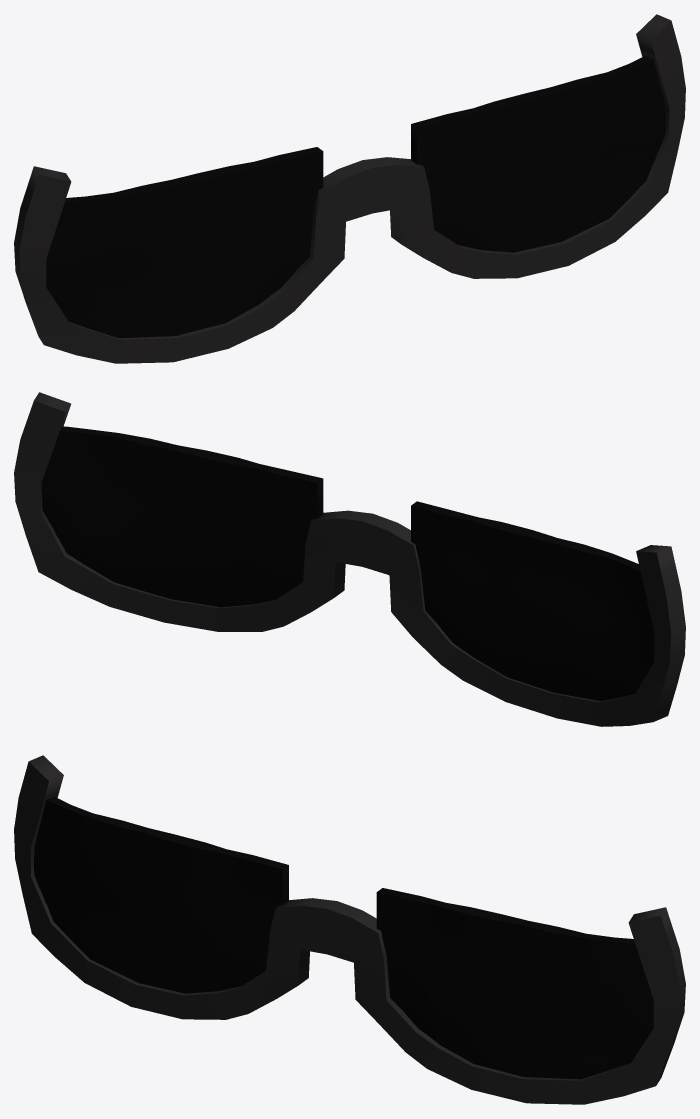
Rendered from catgirl-godot-glasses-one.glb.
3 views of the same model, one above another, from view 1: azimuth 30°, elevation 25°; view 2: azimuth 150°, elevation 25°; view 3: azimuth 330°, elevation 25° (orthographic).
Parts seen in each view (by area): view 1: geo.accessory.glasses; view 2: geo.accessory.glasses; view 3: geo.accessory.glasses.
Boxes of the visible parts, bbox=[...] form: geo.accessory.glasses: bbox=[14, 14, 685, 363]; geo.accessory.glasses: bbox=[14, 392, 685, 726]; geo.accessory.glasses: bbox=[14, 755, 685, 1104].
Size of the model in its own units: 0.346 by 0.1017 by 0.028.
Materials: 1 (1 with a texture image).
